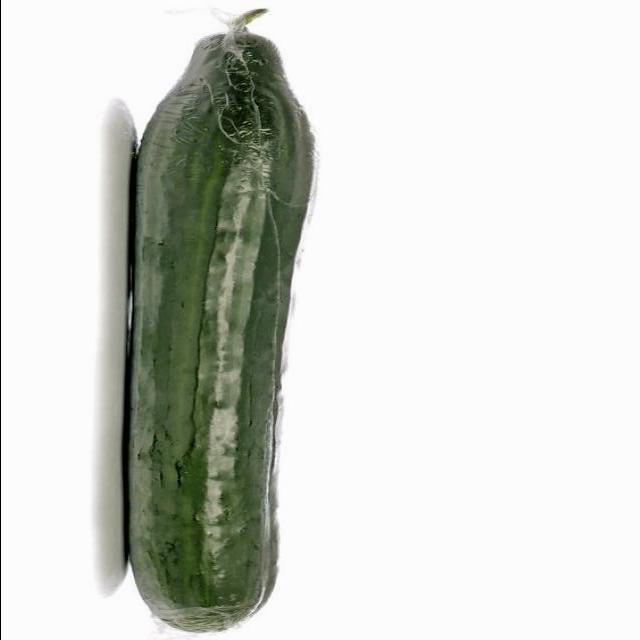cucumber: (119, 21, 322, 633)
